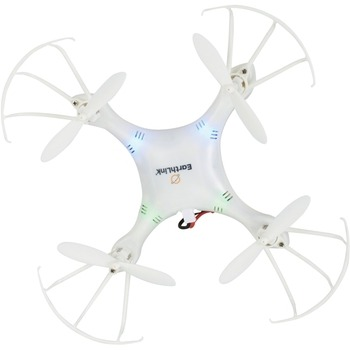drone: (38, 32, 311, 287)
